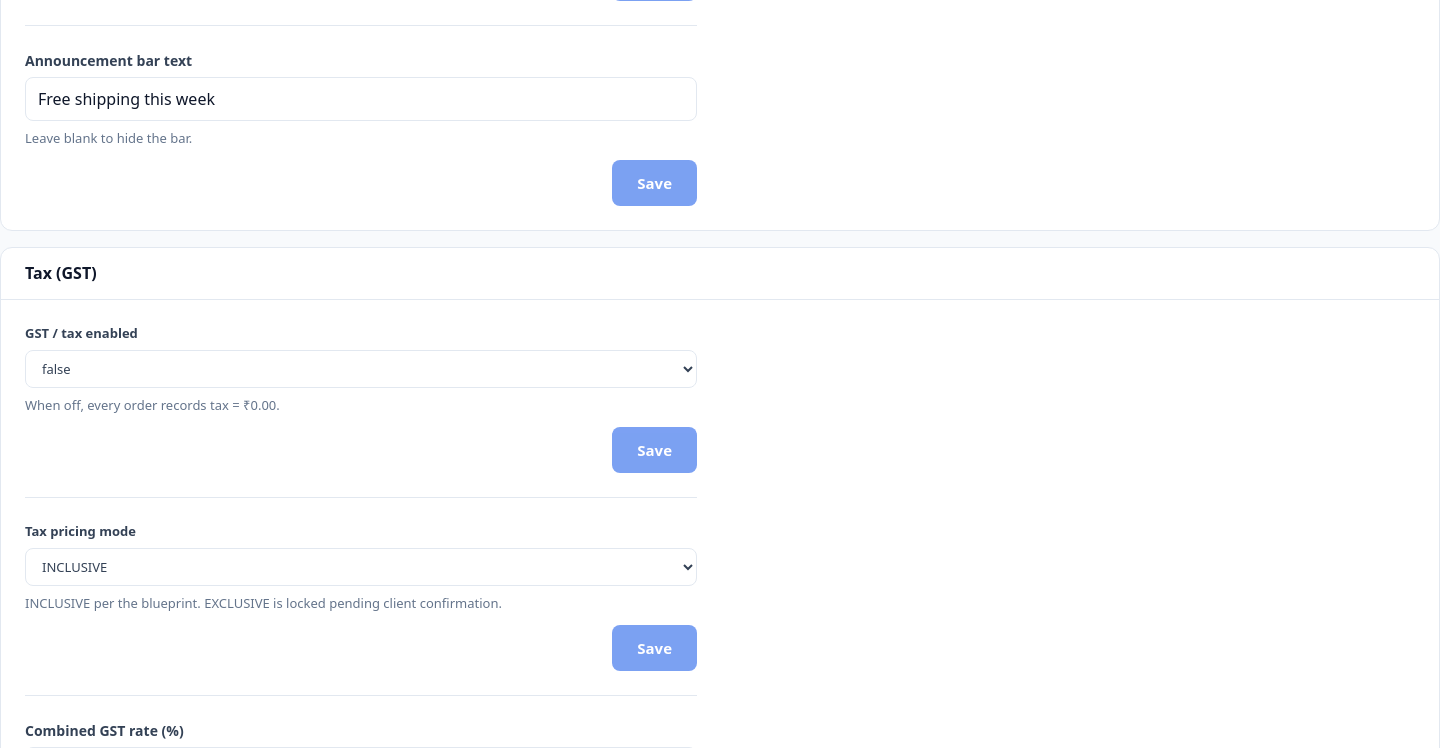
Test: AdminSettingsPage › saves a choice setting, sending the exact { value } payload
(page scrolled)
Select "true" in the dropdown labelled "GST / tax enabled" at (361, 369), box [25, 350, 697, 388]
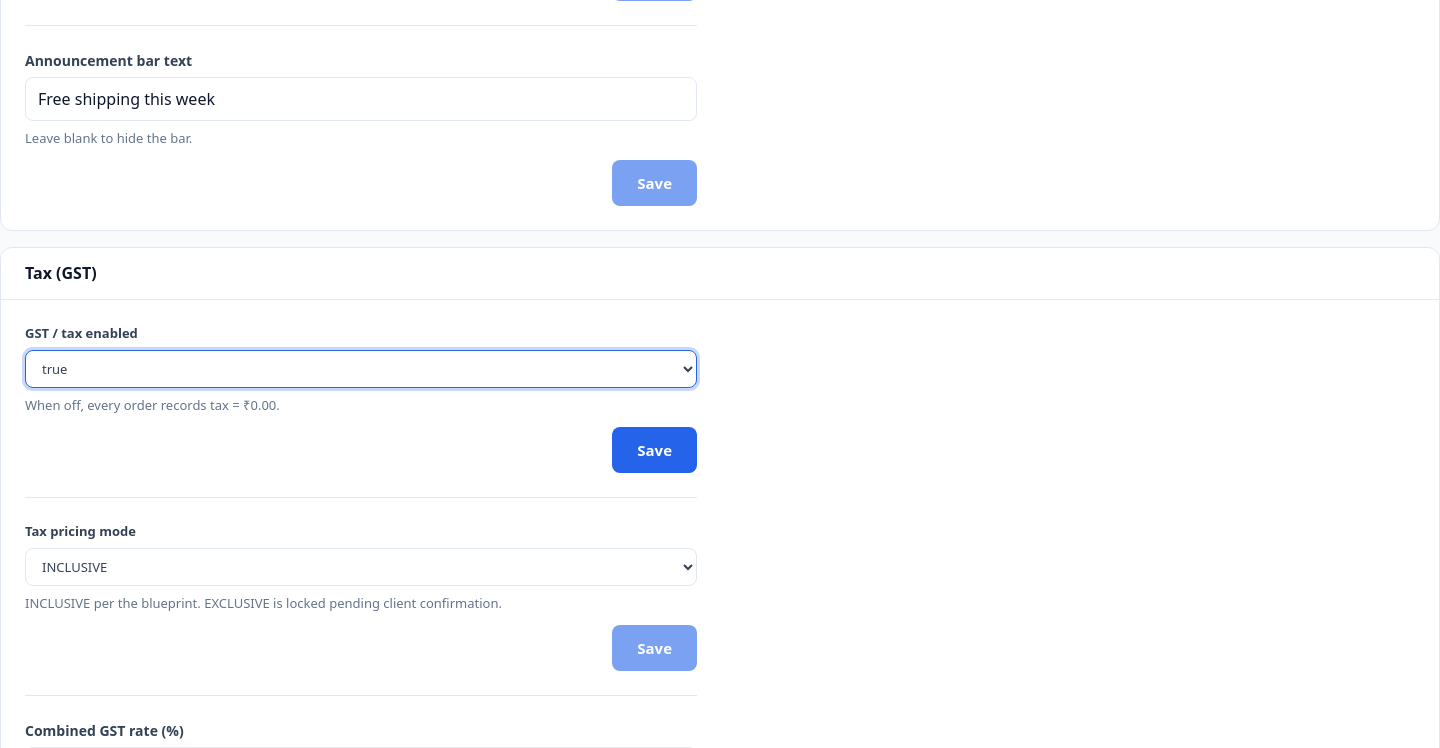
Click the 3rd button "Save" at (655, 450), box [612, 428, 697, 474]
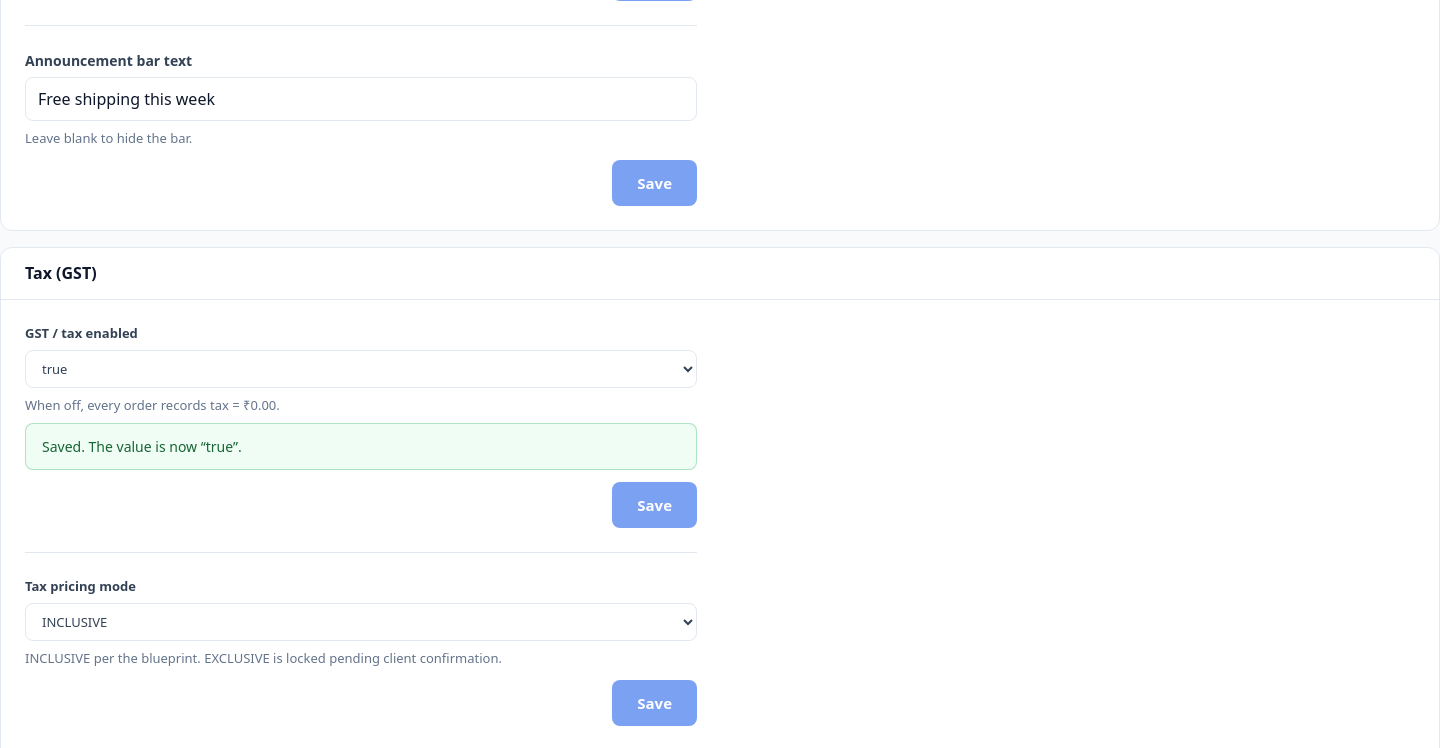
Now the text "Saved. The value is now “true”." is shown, box [25, 424, 697, 470]
